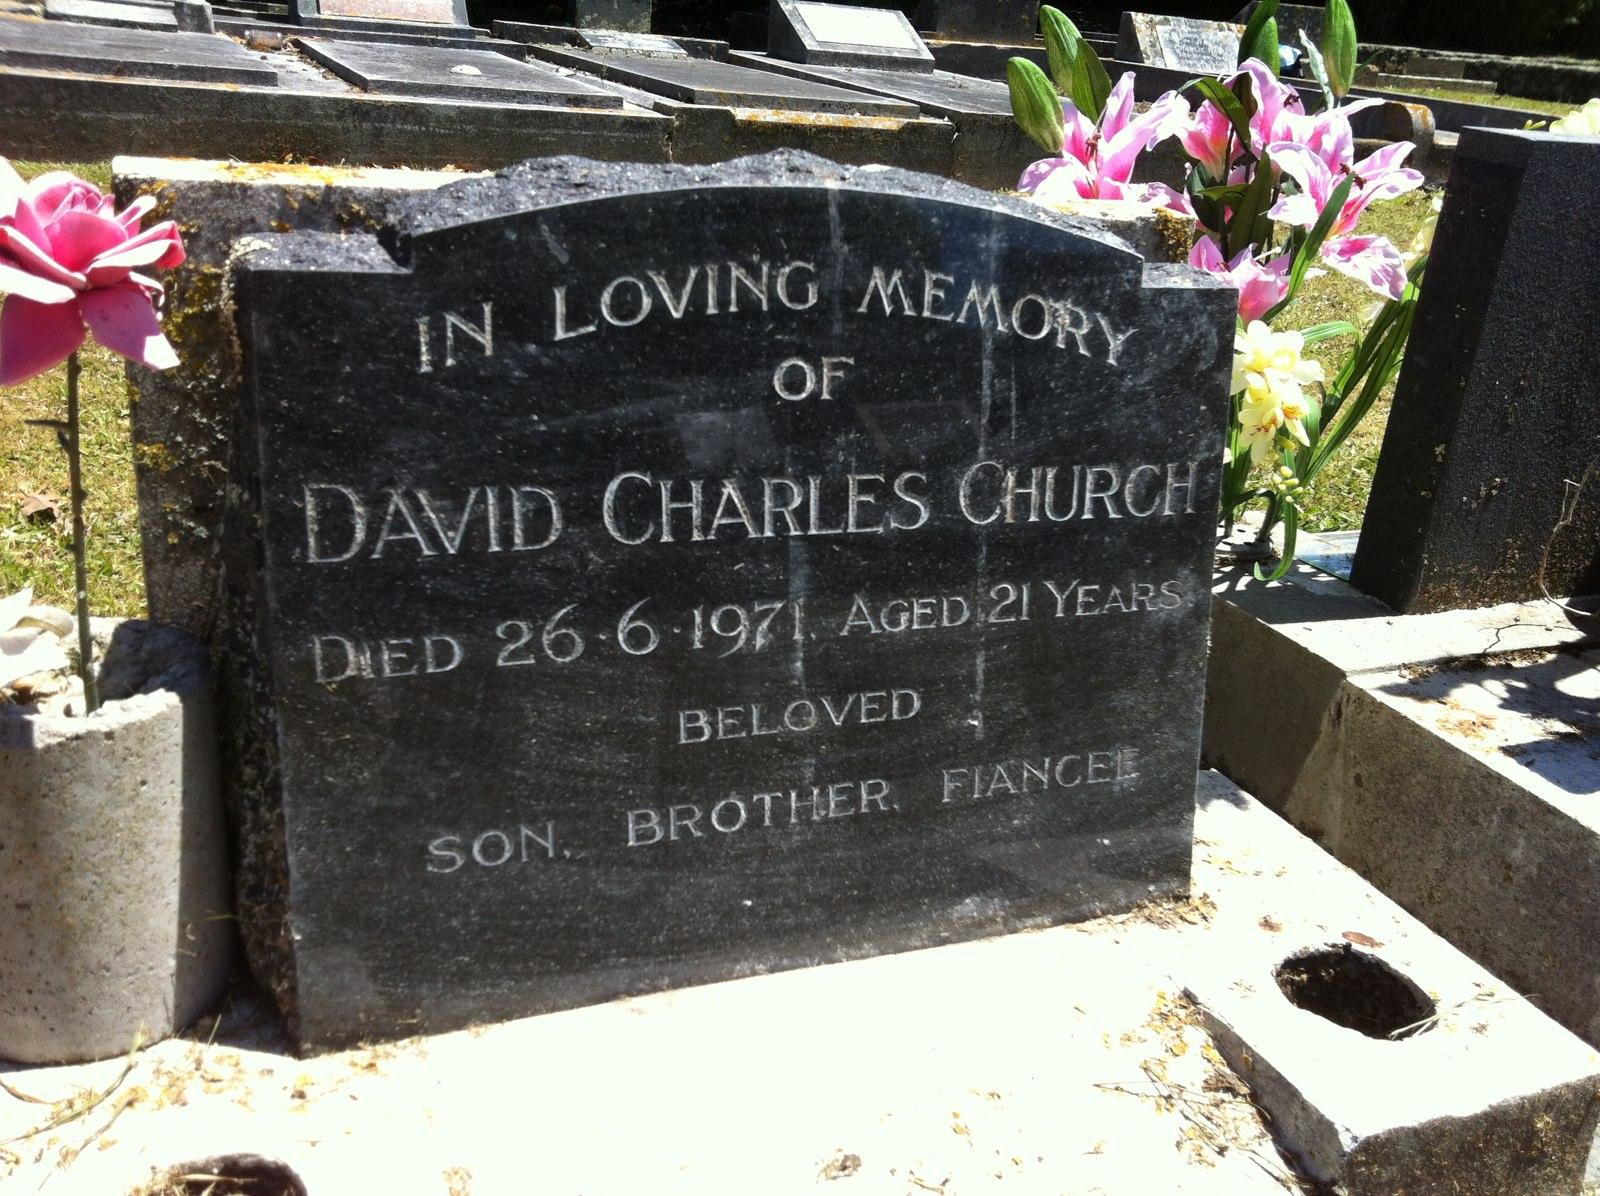upright: (230, 155, 1240, 1060)
